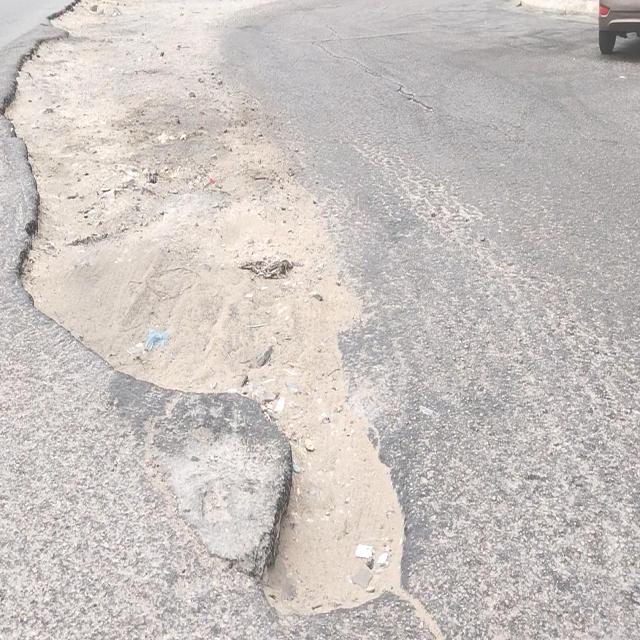Potholes: (250, 404, 409, 623), (12, 197, 104, 340), (0, 74, 53, 151), (32, 32, 69, 66)
